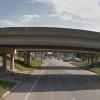Bridge: (1, 20, 93, 60)
